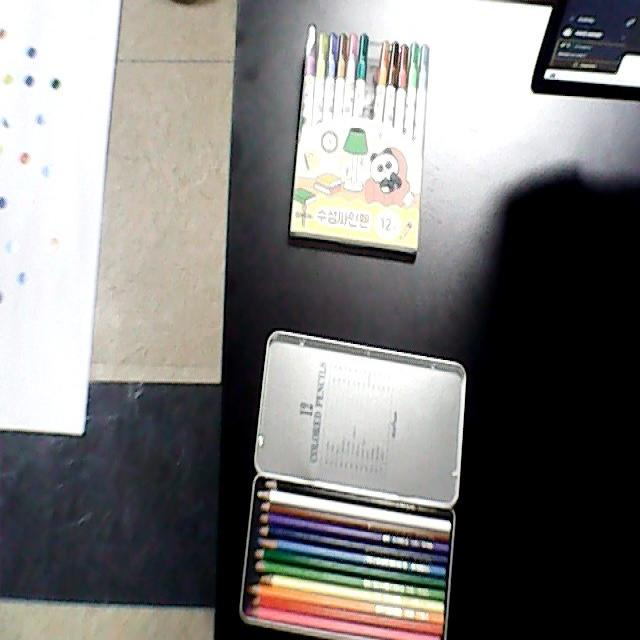color: (235, 467, 464, 639)
signpen: (281, 18, 435, 269)
